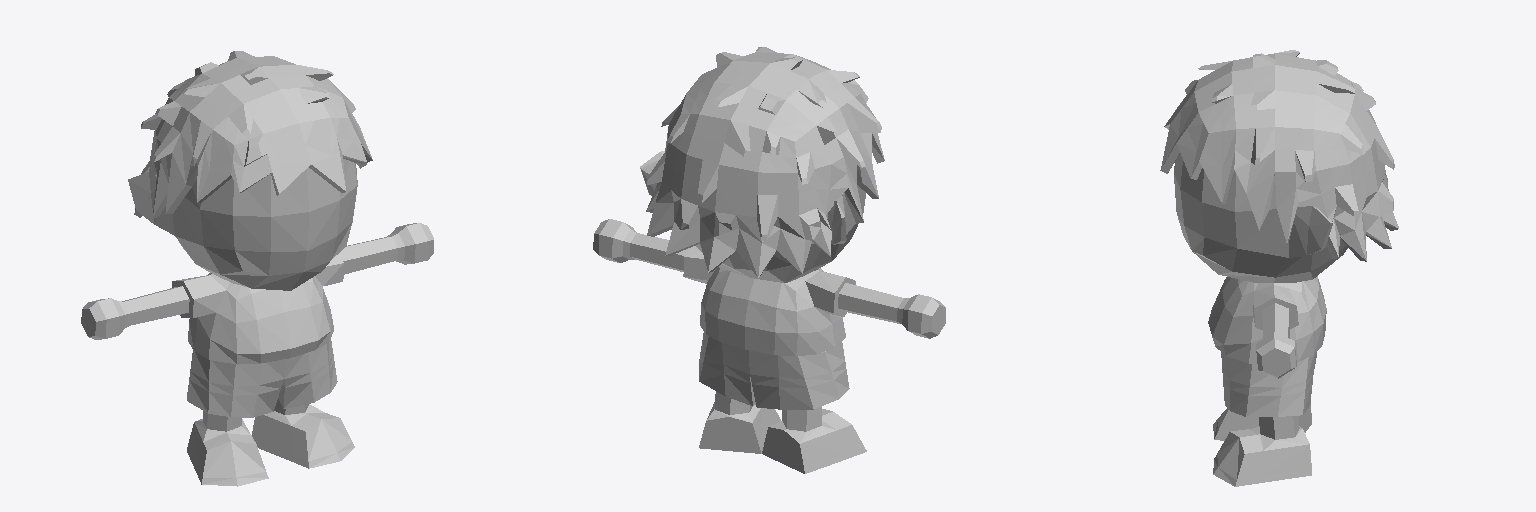
The model's file is CharModelOBJ.obj.
3 renders of one model, left to right at view 1: azimuth 30°, elevation 25°; view 2: azimuth 150°, elevation 25°; view 3: azimuth 270°, elevation 25°, orthographic.
Visible parts, largest first — view 1: Hair, Head, Torso, ShortsRight, LeftLeg, RightLeg, ShortsLeft, RightForearm, LeftForearm, RightUpperArm, LeftUpperArm; view 2: Hair, Torso, ShortsRight, RightLeg, Head, LeftLeg, ShortsLeft, RightForearm, LeftForearm, RightUpperArm, LeftUpperArm; view 3: Hair, Head, Torso, LeftLeg, ShortsLeft, LeftForearm, LeftUpperArm, RightLeg.
Boxes of the visible parts, x1=… form: Hair: x1=134, y1=51, x2=372, y2=217; Head: x1=128, y1=159, x2=357, y2=290; Torso: x1=188, y1=273, x2=333, y2=364; ShortsRight: x1=187, y1=350, x2=285, y2=417; LeftLeg: x1=252, y1=404, x2=354, y2=468; RightLeg: x1=187, y1=411, x2=268, y2=486; ShortsLeft: x1=276, y1=340, x2=337, y2=408; RightForearm: x1=81, y1=293, x2=161, y2=339; LeftForearm: x1=357, y1=223, x2=433, y2=268; RightUpperArm: x1=152, y1=275, x2=226, y2=318; LeftUpperArm: x1=316, y1=243, x2=366, y2=285; Hair: x1=646, y1=47, x2=884, y2=277; Torso: x1=700, y1=267, x2=845, y2=355; ShortsRight: x1=749, y1=341, x2=849, y2=409; RightLeg: x1=762, y1=407, x2=866, y2=473; Head: x1=640, y1=151, x2=865, y2=282; LeftLeg: x1=699, y1=391, x2=780, y2=453; ShortsLeft: x1=699, y1=332, x2=755, y2=405; RightForearm: x1=865, y1=290, x2=945, y2=338; LeftForearm: x1=593, y1=219, x2=667, y2=267; RightUpperArm: x1=805, y1=271, x2=871, y2=317; LeftUpperArm: x1=661, y1=240, x2=715, y2=283; Hair: x1=1160, y1=50, x2=1398, y2=261; Head: x1=1174, y1=153, x2=1347, y2=282; Torso: x1=1208, y1=276, x2=1326, y2=363; LeftLeg: x1=1213, y1=416, x2=1311, y2=486; ShortsLeft: x1=1221, y1=352, x2=1316, y2=416; LeftForearm: x1=1256, y1=317, x2=1296, y2=378; LeftUpperArm: x1=1253, y1=285, x2=1298, y2=330; RightLeg: x1=1213, y1=404, x2=1311, y2=440.
Bounding box in the file's own units: 3.25 × 3.55 × 1.99.